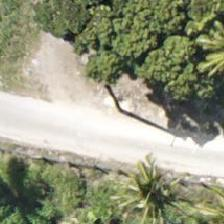Kelapa_Sawit: (108, 150, 198, 224)
